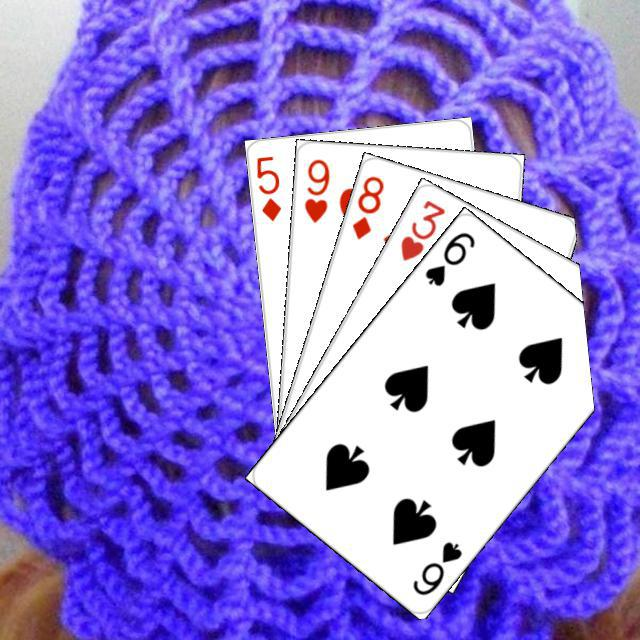3h: (395, 195, 447, 263)
5d: (251, 151, 283, 223)
6s: (419, 227, 477, 288), (407, 536, 464, 598)
8d: (347, 171, 386, 241)
9h: (299, 154, 331, 225)
